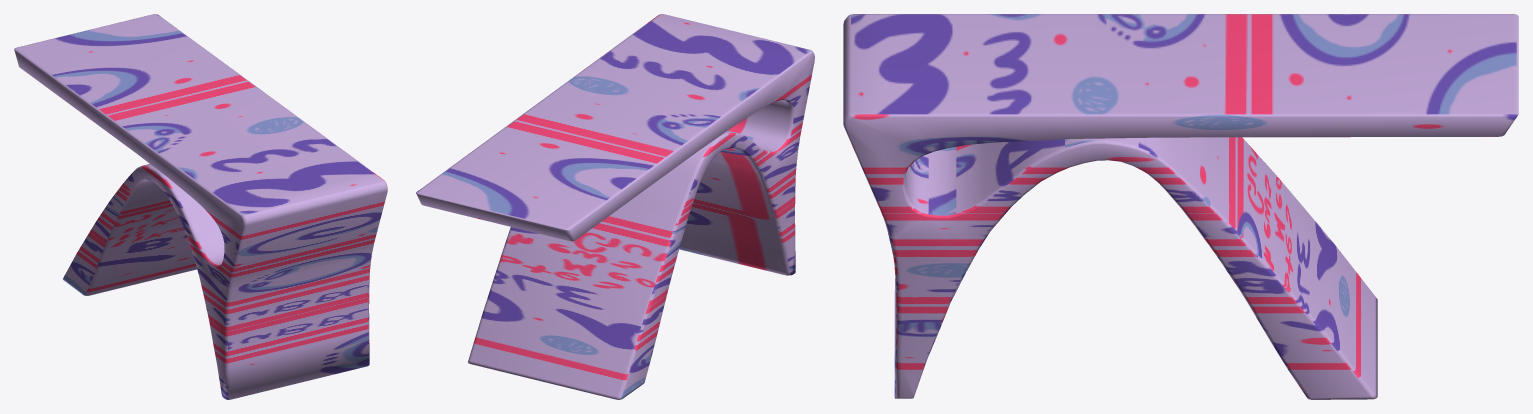
File: desk.gltf
The picture shows the model from 3 angles, left to right: view 1: azimuth 30°, elevation 25°; view 2: azimuth 150°, elevation 25°; view 3: azimuth 270°, elevation 25°; orthographic projection. The views are drawn at different scales.
Visible parts, largest first — view 1: Material_001-material; view 2: Material_001-material; view 3: Material_001-material.
Part boxes in pixels (x1,y1,x2,y2): Material_001-material: (14,14,387,399); Material_001-material: (416,14,814,399); Material_001-material: (843,14,1518,399).
Size of the model in its own units: 0.6574 by 0.8534 by 1.83.
